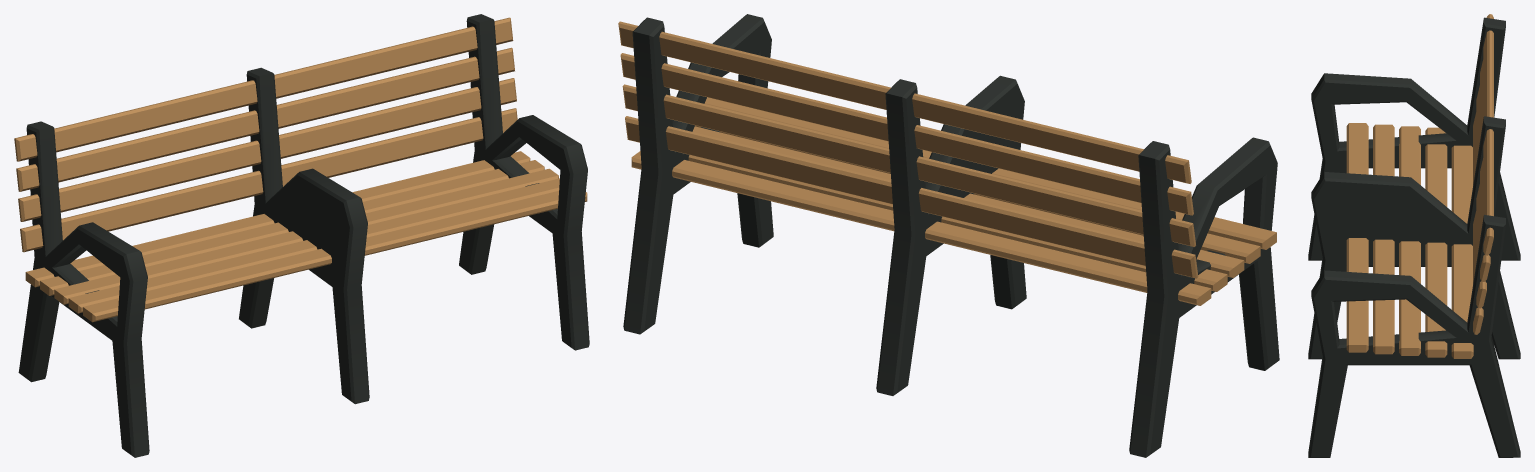
The model's file is bench.glb.
The picture shows the model from 3 angles, left to right: view 1: azimuth 30°, elevation 25°; view 2: azimuth 150°, elevation 25°; view 3: azimuth 270°, elevation 25°; orthographic projection. The views are drawn at different scales.
Visible parts, largest first — view 1: iron1, iron0, iron2, woodTop11, woodTop10, woodTop9, woodTop8, woodTop3, woodTop4, woodTop5, woodTop6, woodTop7; view 2: iron0, iron1, iron2, woodTop11, woodTop10, woodTop9, woodTop8, woodTop7, woodTop3, woodTop5, woodTop6, woodTop4; view 3: iron2, iron1, iron0, woodTop7, woodTop6, woodTop3, woodTop4, woodTop5, woodTop11, woodTop10, woodTop9, woodTop8.
Part boxes in pixels (left/top/right/bottom): iron1: left=239, top=67, right=369, bottom=404; iron0: left=18, top=121, right=149, bottom=457; iron2: left=459, top=14, right=589, bottom=350; woodTop11: left=14, top=17, right=513, bottom=161; woodTop10: left=16, top=47, right=514, bottom=191; woodTop9: left=18, top=78, right=516, bottom=221; woodTop8: left=20, top=108, right=517, bottom=252; woodTop3: left=83, top=191, right=587, bottom=322; woodTop4: left=68, top=178, right=559, bottom=313; woodTop5: left=54, top=168, right=558, bottom=304; woodTop6: left=40, top=160, right=544, bottom=295; woodTop7: left=25, top=151, right=530, bottom=287; iron0: left=1129, top=137, right=1279, bottom=457; iron1: left=876, top=75, right=1026, bottom=395; iron2: left=623, top=14, right=773, bottom=334; woodTop11: left=618, top=21, right=1191, bottom=183; woodTop10: left=620, top=53, right=1193, bottom=215; woodTop9: left=622, top=84, right=1195, bottom=246; woodTop8: left=625, top=116, right=1198, bottom=278; woodTop7: left=631, top=151, right=1211, bottom=305; woodTop3: left=704, top=97, right=1276, bottom=249; woodTop5: left=692, top=126, right=1244, bottom=277; woodTop6: left=688, top=155, right=1227, bottom=291; woodTop4: left=695, top=125, right=1260, bottom=263; iron2: left=1308, top=214, right=1520, bottom=457; iron1: left=1308, top=116, right=1520, bottom=359; iron0: left=1308, top=17, right=1520, bottom=260; woodTop7: left=1451, top=145, right=1473, bottom=358; woodTop6: left=1425, top=127, right=1447, bottom=357; woodTop3: left=1346, top=123, right=1368, bottom=352; woodTop4: left=1373, top=124, right=1394, bottom=354; woodTop5: left=1399, top=126, right=1420, bottom=355; woodTop11: left=1483, top=14, right=1493, bottom=255; woodTop10: left=1480, top=60, right=1490, bottom=281; woodTop9: left=1476, top=85, right=1486, bottom=308; woodTop8: left=1473, top=112, right=1483, bottom=334.
Size of the model in its own units: 1.8 by 0.8971 by 0.7274.
